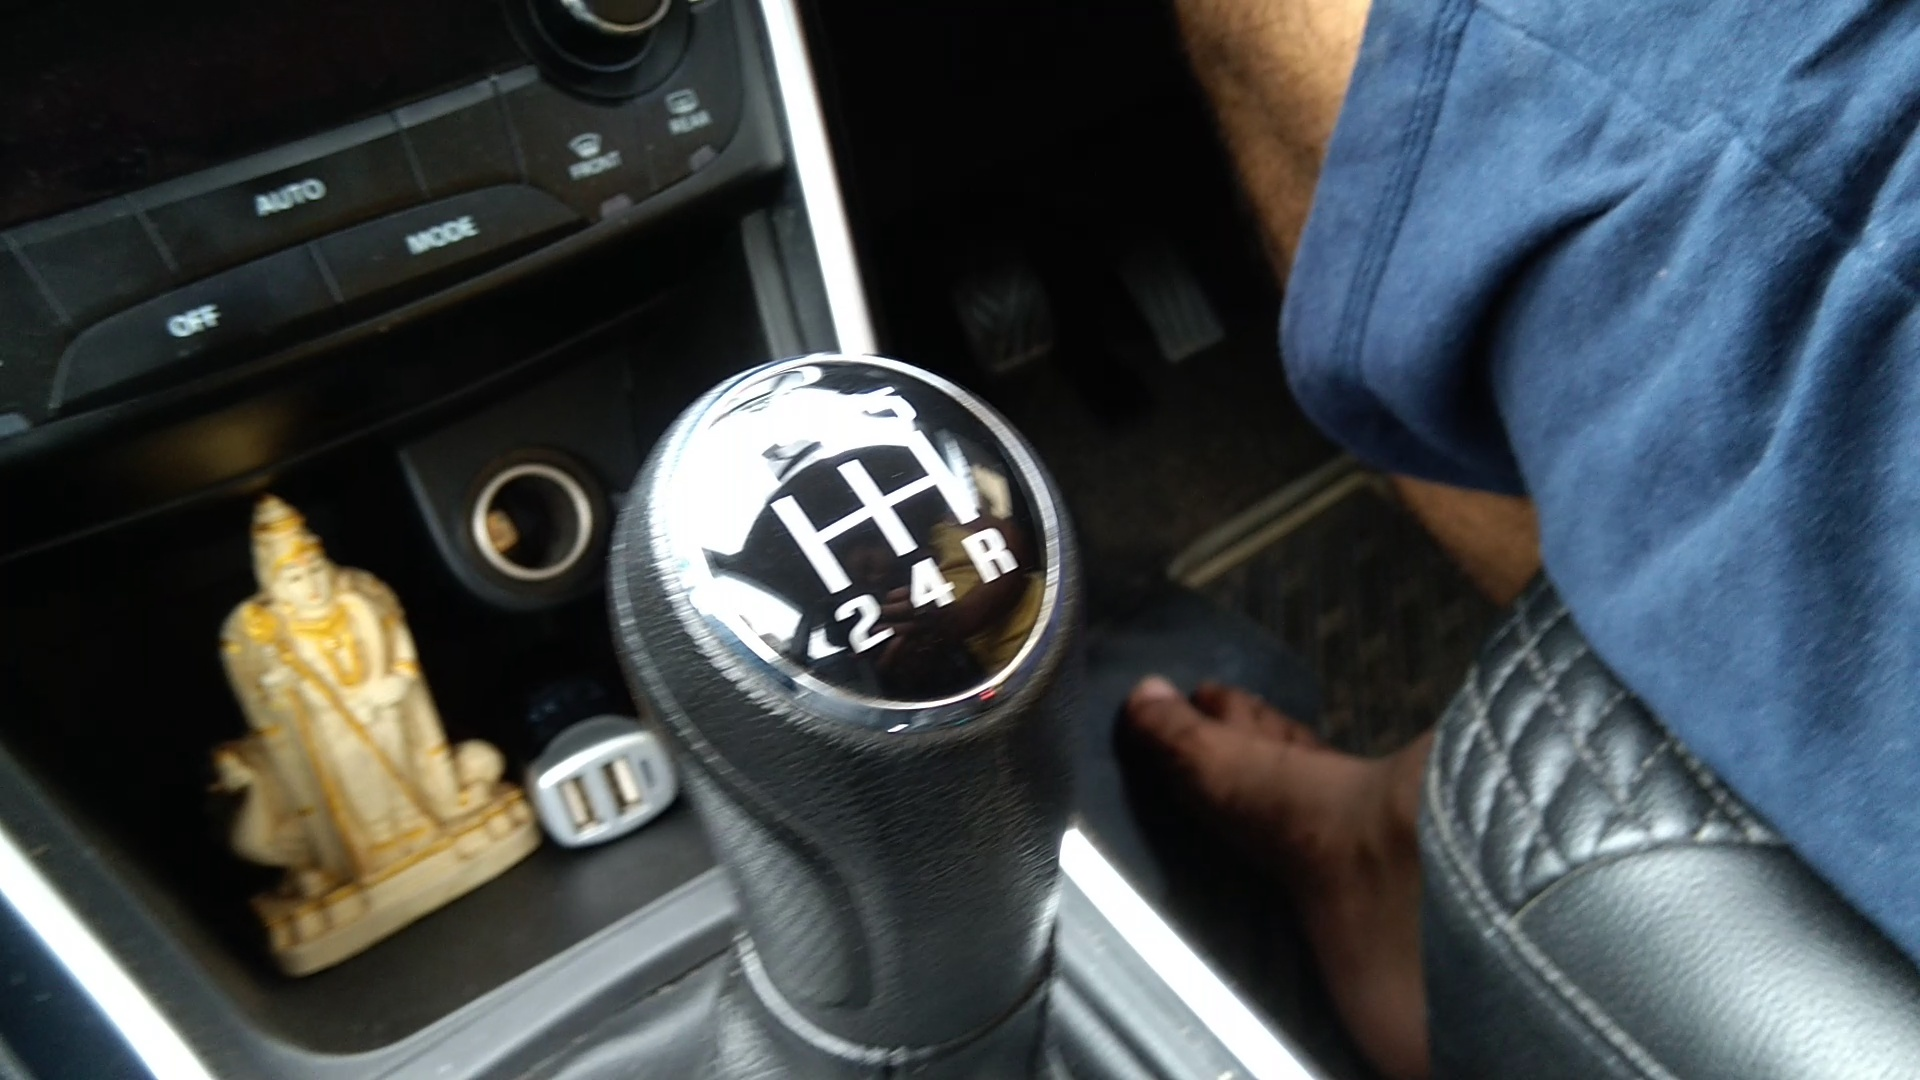manual_gear: (582, 335, 1116, 1080)
